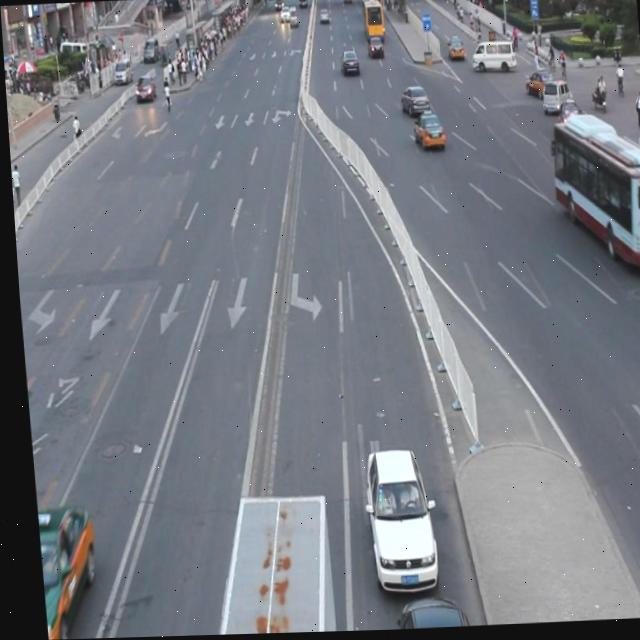bus: (194, 490, 327, 636)
car: (354, 446, 431, 595), (29, 503, 94, 640), (384, 594, 463, 631)
van: (547, 118, 640, 275)
